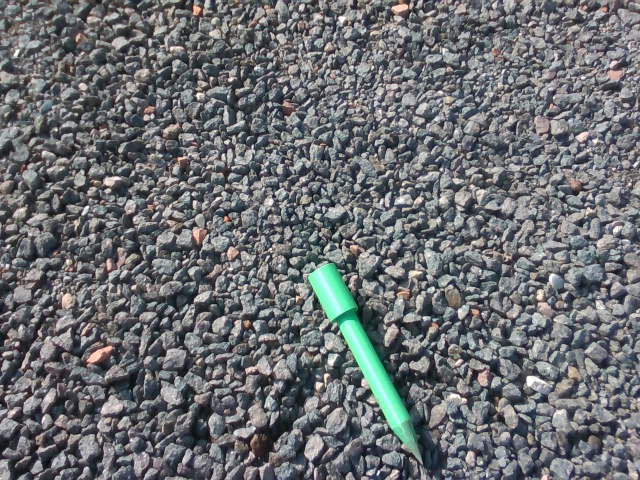Probe: (306, 260, 430, 470)
